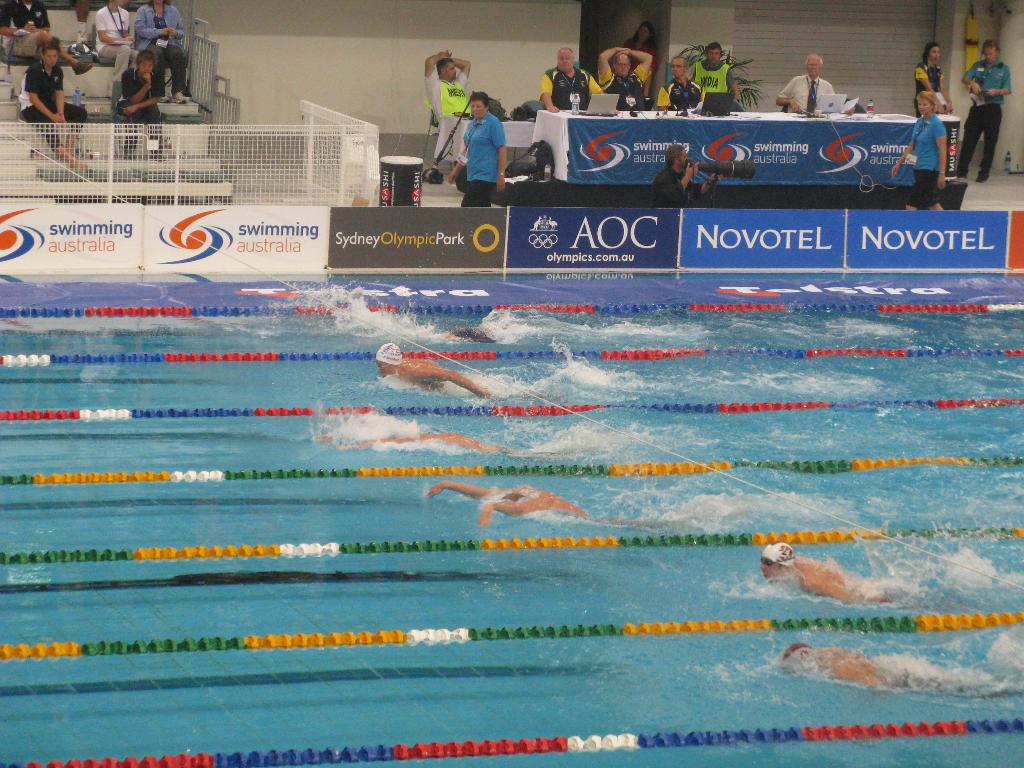Person: (422, 23, 1011, 211), (0, 0, 185, 169), (756, 544, 897, 606), (374, 349, 487, 399)
